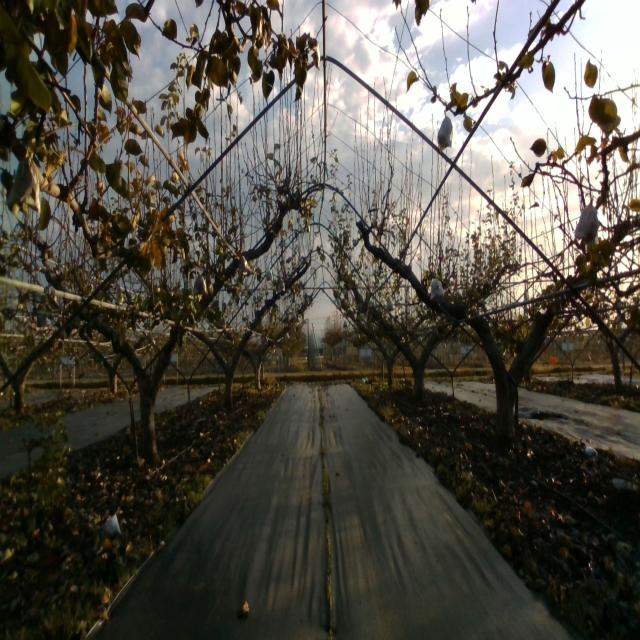pearbags: (5, 150, 40, 213), (574, 197, 600, 245), (438, 108, 452, 153), (238, 256, 253, 280), (192, 274, 208, 296), (429, 277, 444, 300)
